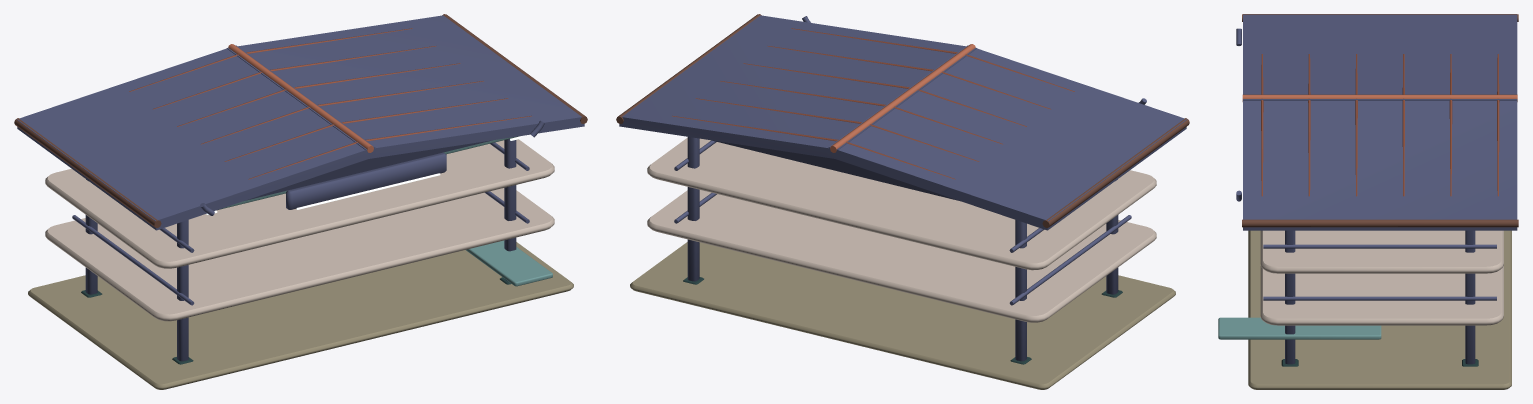
Rendered from japan_parking.glb.
3 views of the same model, side by side, from view 1: azimuth 30°, elevation 25°; view 2: azimuth 150°, elevation 25°; view 3: azimuth 270°, elevation 25° (orthographic).
Parts seen in each view (by area): view 1: JapanParking; view 2: JapanParking; view 3: JapanParking.
Boxes of the visible parts, bbox=[...] form: JapanParking: bbox=[14, 14, 587, 389]; JapanParking: bbox=[616, 14, 1189, 389]; JapanParking: bbox=[1218, 14, 1518, 389].
Bounding box in the file's own units: 12.59 × 5.48 × 7.65.
